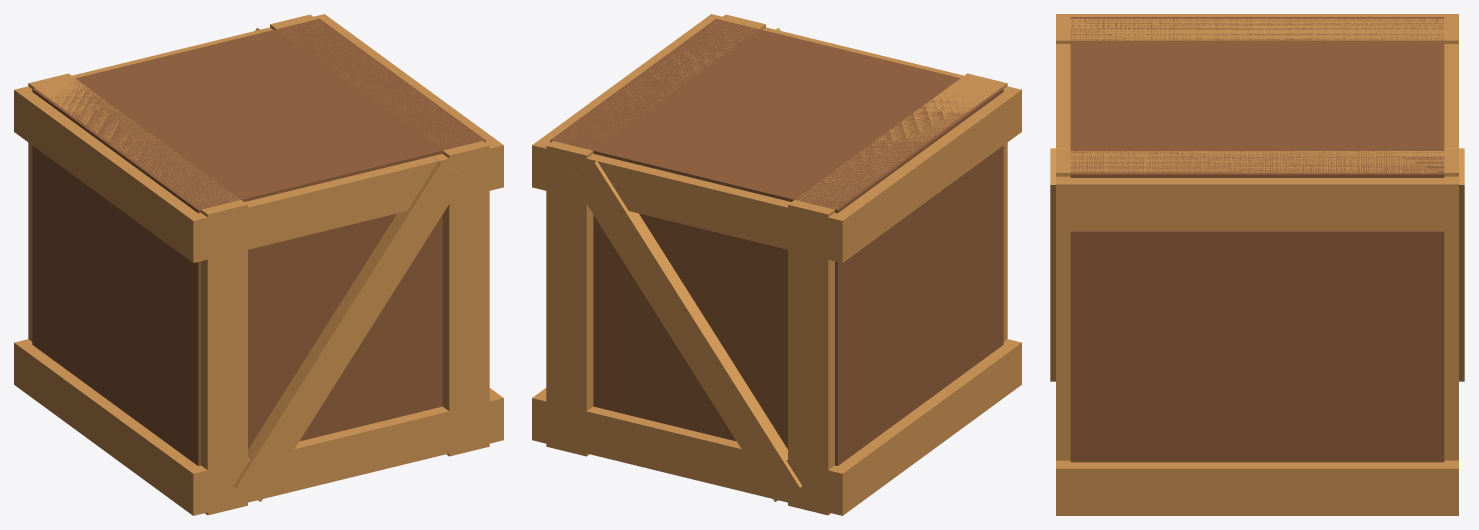
The model's file is crate.gltf.
The picture shows the model from 3 angles, left to right: view 1: azimuth 30°, elevation 25°; view 2: azimuth 150°, elevation 25°; view 3: azimuth 270°, elevation 25°; orthographic projection. The views are drawn at different scales.
Visible parts, largest first — view 1: Crate; view 2: Crate; view 3: Crate.
Boxes of the visible parts, <box> form: Crate: <box>14,14,503,515</box>; Crate: <box>532,14,1021,515</box>; Crate: <box>1050,14,1464,515</box>.
Size of the model in its own units: 0.54 by 0.5 by 0.555.
